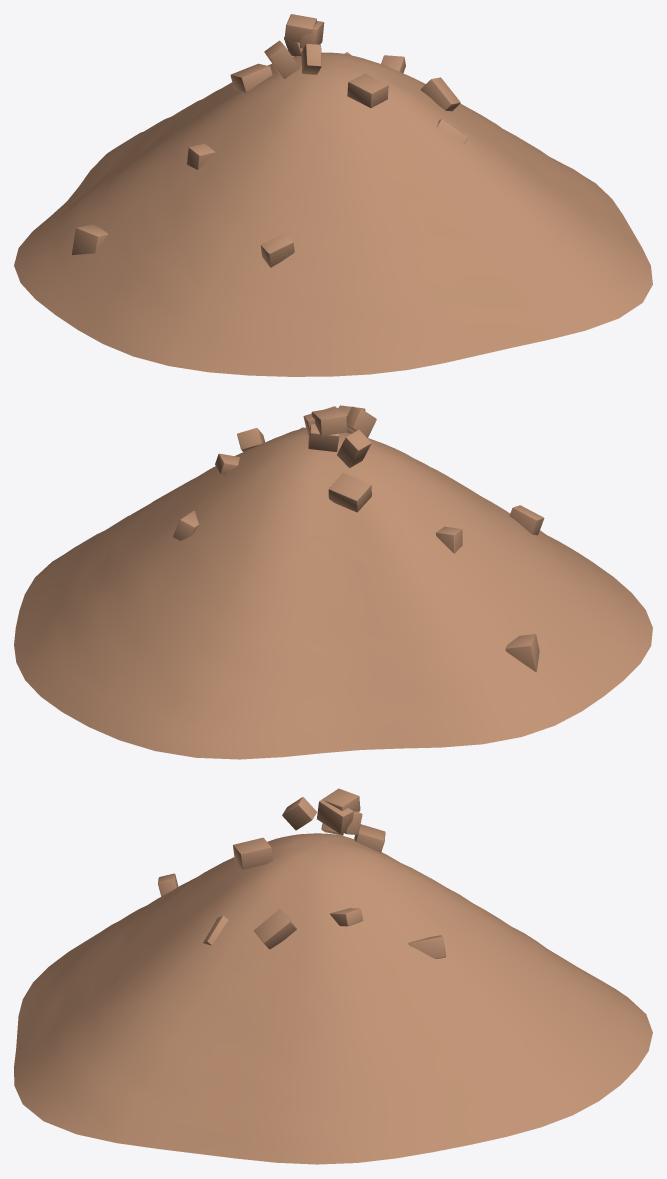
The model's file is TER-SOL-002_lod1.glb.
The picture shows the model from 3 angles, top to bottom: view 1: azimuth 30°, elevation 25°; view 2: azimuth 150°, elevation 25°; view 3: azimuth 270°, elevation 25°; orthographic projection. The views are drawn at different scales.
Parts seen in each view (by area): view 1: TER-SOL-002_monte, TER-SOL-002_caco9, TER-SOL-002_caco12, TER-SOL-002_caco1, TER-SOL-002_caco3, TER-SOL-002_caco7, TER-SOL-002_caco2, TER-SOL-002_caco5, TER-SOL-002_caco11; view 2: TER-SOL-002_monte, TER-SOL-002_caco1, TER-SOL-002_caco12, TER-SOL-002_caco2, TER-SOL-002_caco5, TER-SOL-002_caco11, TER-SOL-002_caco3, TER-SOL-002_caco6; view 3: TER-SOL-002_monte, TER-SOL-002_caco9, TER-SOL-002_caco7, TER-SOL-002_caco10, TER-SOL-002_caco11, TER-SOL-002_caco1, TER-SOL-002_caco5, TER-SOL-002_caco13.
Boxes of the visible parts, x1,y1,x2,y2 form: TER-SOL-002_monte: [14, 52, 652, 376]; TER-SOL-002_caco9: [347, 73, 388, 107]; TER-SOL-002_caco12: [72, 224, 108, 254]; TER-SOL-002_caco1: [230, 63, 272, 92]; TER-SOL-002_caco3: [260, 233, 294, 267]; TER-SOL-002_caco7: [421, 77, 460, 111]; TER-SOL-002_caco2: [264, 40, 299, 78]; TER-SOL-002_caco5: [284, 14, 316, 42]; TER-SOL-002_caco11: [301, 44, 321, 74]; TER-SOL-002_monte: [14, 427, 652, 759]; TER-SOL-002_caco1: [328, 473, 371, 512]; TER-SOL-002_caco12: [505, 634, 539, 672]; TER-SOL-002_caco2: [337, 430, 371, 467]; TER-SOL-002_caco5: [311, 407, 347, 436]; TER-SOL-002_caco11: [346, 406, 376, 437]; TER-SOL-002_caco3: [509, 505, 544, 535]; TER-SOL-002_caco6: [308, 424, 339, 451]; TER-SOL-002_monte: [14, 833, 652, 1164]; TER-SOL-002_caco9: [233, 837, 272, 869]; TER-SOL-002_caco7: [254, 909, 296, 949]; TER-SOL-002_caco10: [317, 799, 353, 834]; TER-SOL-002_caco11: [282, 797, 316, 830]; TER-SOL-002_caco1: [354, 824, 385, 852]; TER-SOL-002_caco5: [321, 788, 360, 811]; TER-SOL-002_caco13: [408, 935, 446, 958].
Size of the model in its own units: 1.7 by 0.6719 by 1.71.
